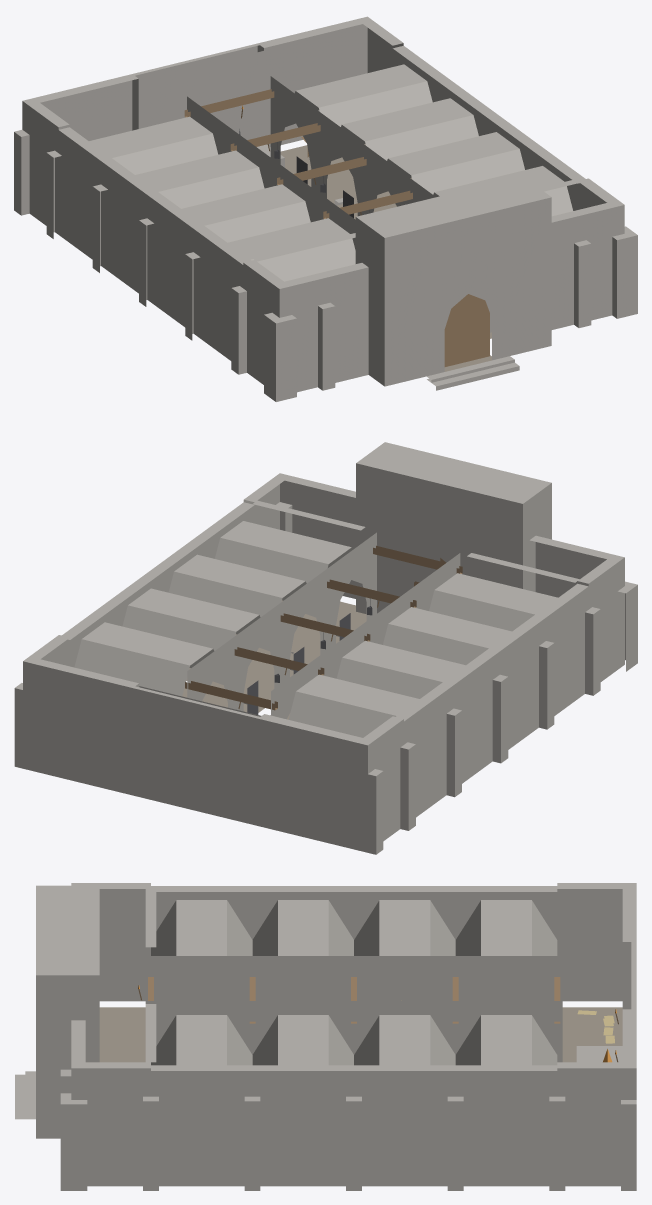
Rendered from Foso_V2_LOWEST.dae.
3 renders of one model, top to bottom at view 1: azimuth 30°, elevation 25°; view 2: azimuth 150°, elevation 25°; view 3: azimuth 270°, elevation 25°, orthographic. The views are drawn at different scales.
Parts seen in each view (by area): view 1: G_Torre_O_LOD0, G_Muro_O_LOD0, G_Torre_E_LOD0, G_Muro_E_LOD0, N_Muro_O_LOD0, N_Muro_Fondo_LOD0, N_Muro_E_LOD0, G_Arco_LOD0, C02_Muros_LOD0, C03_Muros_LOD0, C04_Muros_LOD0, C01_Muros_LOD0 (+28 smaller); view 2: N_Muro_O_LOD0, N_Muro_Fondo_LOD0, N_Muro_E_LOD0, G_Torre_O_LOD0, G_Torre_E_LOD0, G_Arco_LOD0, C08_Boveda_LOD0, C02_Muros_LOD0, C03_Muros_LOD0, C04_Muros_LOD0, C01_Muros_LOD0, C04_Boveda_LOD0 (+29 smaller); view 3: C08_Muros_LOD0, C07_Muros_LOD0, C05_Muros_LOD0, C06_Muros_LOD0, N_Muro_E_LOD0, V_Muro_E_LOD0, N_Muro_O_LOD0, G_Torre_E_LOD0, V_Muro_O_LOD0, C04_Boveda_LOD0, C02_Boveda_LOD0, C03_Boveda_LOD0 (+24 smaller).
Boxes of the visible parts, <box> form: G_Torre_O_LOD0: <box>355,203,440,386</box>; G_Muro_O_LOD0: <box>264,263,368,401</box>; G_Torre_E_LOD0: <box>467,176,551,359</box>; G_Muro_E_LOD0: <box>551,200,637,329</box>; N_Muro_O_LOD0: <box>14,74,138,234</box>; N_Muro_Fondo_LOD0: <box>133,43,263,139</box>; N_Muro_E_LOD0: <box>257,16,403,146</box>; G_Arco_LOD0: <box>412,190,495,372</box>; C02_Muros_LOD0: <box>139,195,207,335</box>; C03_Muros_LOD0: <box>92,161,161,301</box>; C04_Muros_LOD0: <box>46,127,115,268</box>; C01_Muros_LOD0: <box>185,229,251,360</box>; N_Muro_O_LOD0: <box>258,714,403,854</box>; N_Muro_Fondo_LOD0: <box>132,686,260,825</box>; N_Muro_E_LOD0: <box>14,635,139,795</box>; G_Torre_O_LOD0: <box>467,469,551,591</box>; G_Torre_E_LOD0: <box>356,442,440,614</box>; G_Arco_LOD0: <box>411,455,495,587</box>; C08_Boveda_LOD0: <box>74,622,214,696</box>; C02_Muros_LOD0: <box>485,617,542,763</box>; C03_Muros_LOD0: <box>439,651,496,797</box>; C04_Muros_LOD0: <box>396,685,450,830</box>; C01_Muros_LOD0: <box>531,583,588,729</box>; C04_Boveda_LOD0: <box>288,674,419,737</box>; C08_Muros_LOD0: <box>455,1065,565,1190</box>; C07_Muros_LOD0: <box>354,1065,463,1190</box>; C05_Muros_LOD0: <box>151,1065,260,1190</box>; C06_Muros_LOD0: <box>252,1065,361,1190</box>; N_Muro_E_LOD0: <box>557,1009,636,1190</box>; V_Muro_E_LOD0: <box>85,1004,158,1190</box>; N_Muro_O_LOD0: <box>557,883,636,1009</box>; G_Torre_E_LOD0: <box>36,945,99,1138</box>; V_Muro_O_LOD0: <box>85,883,156,1001</box>; C04_Boveda_LOD0: <box>455,900,557,955</box>; C02_Boveda_LOD0: <box>252,900,353,955</box>; C03_Boveda_LOD0: <box>354,900,455,955</box>.
Size of the model in its own units: 26 by 35.32 by 11.1.
